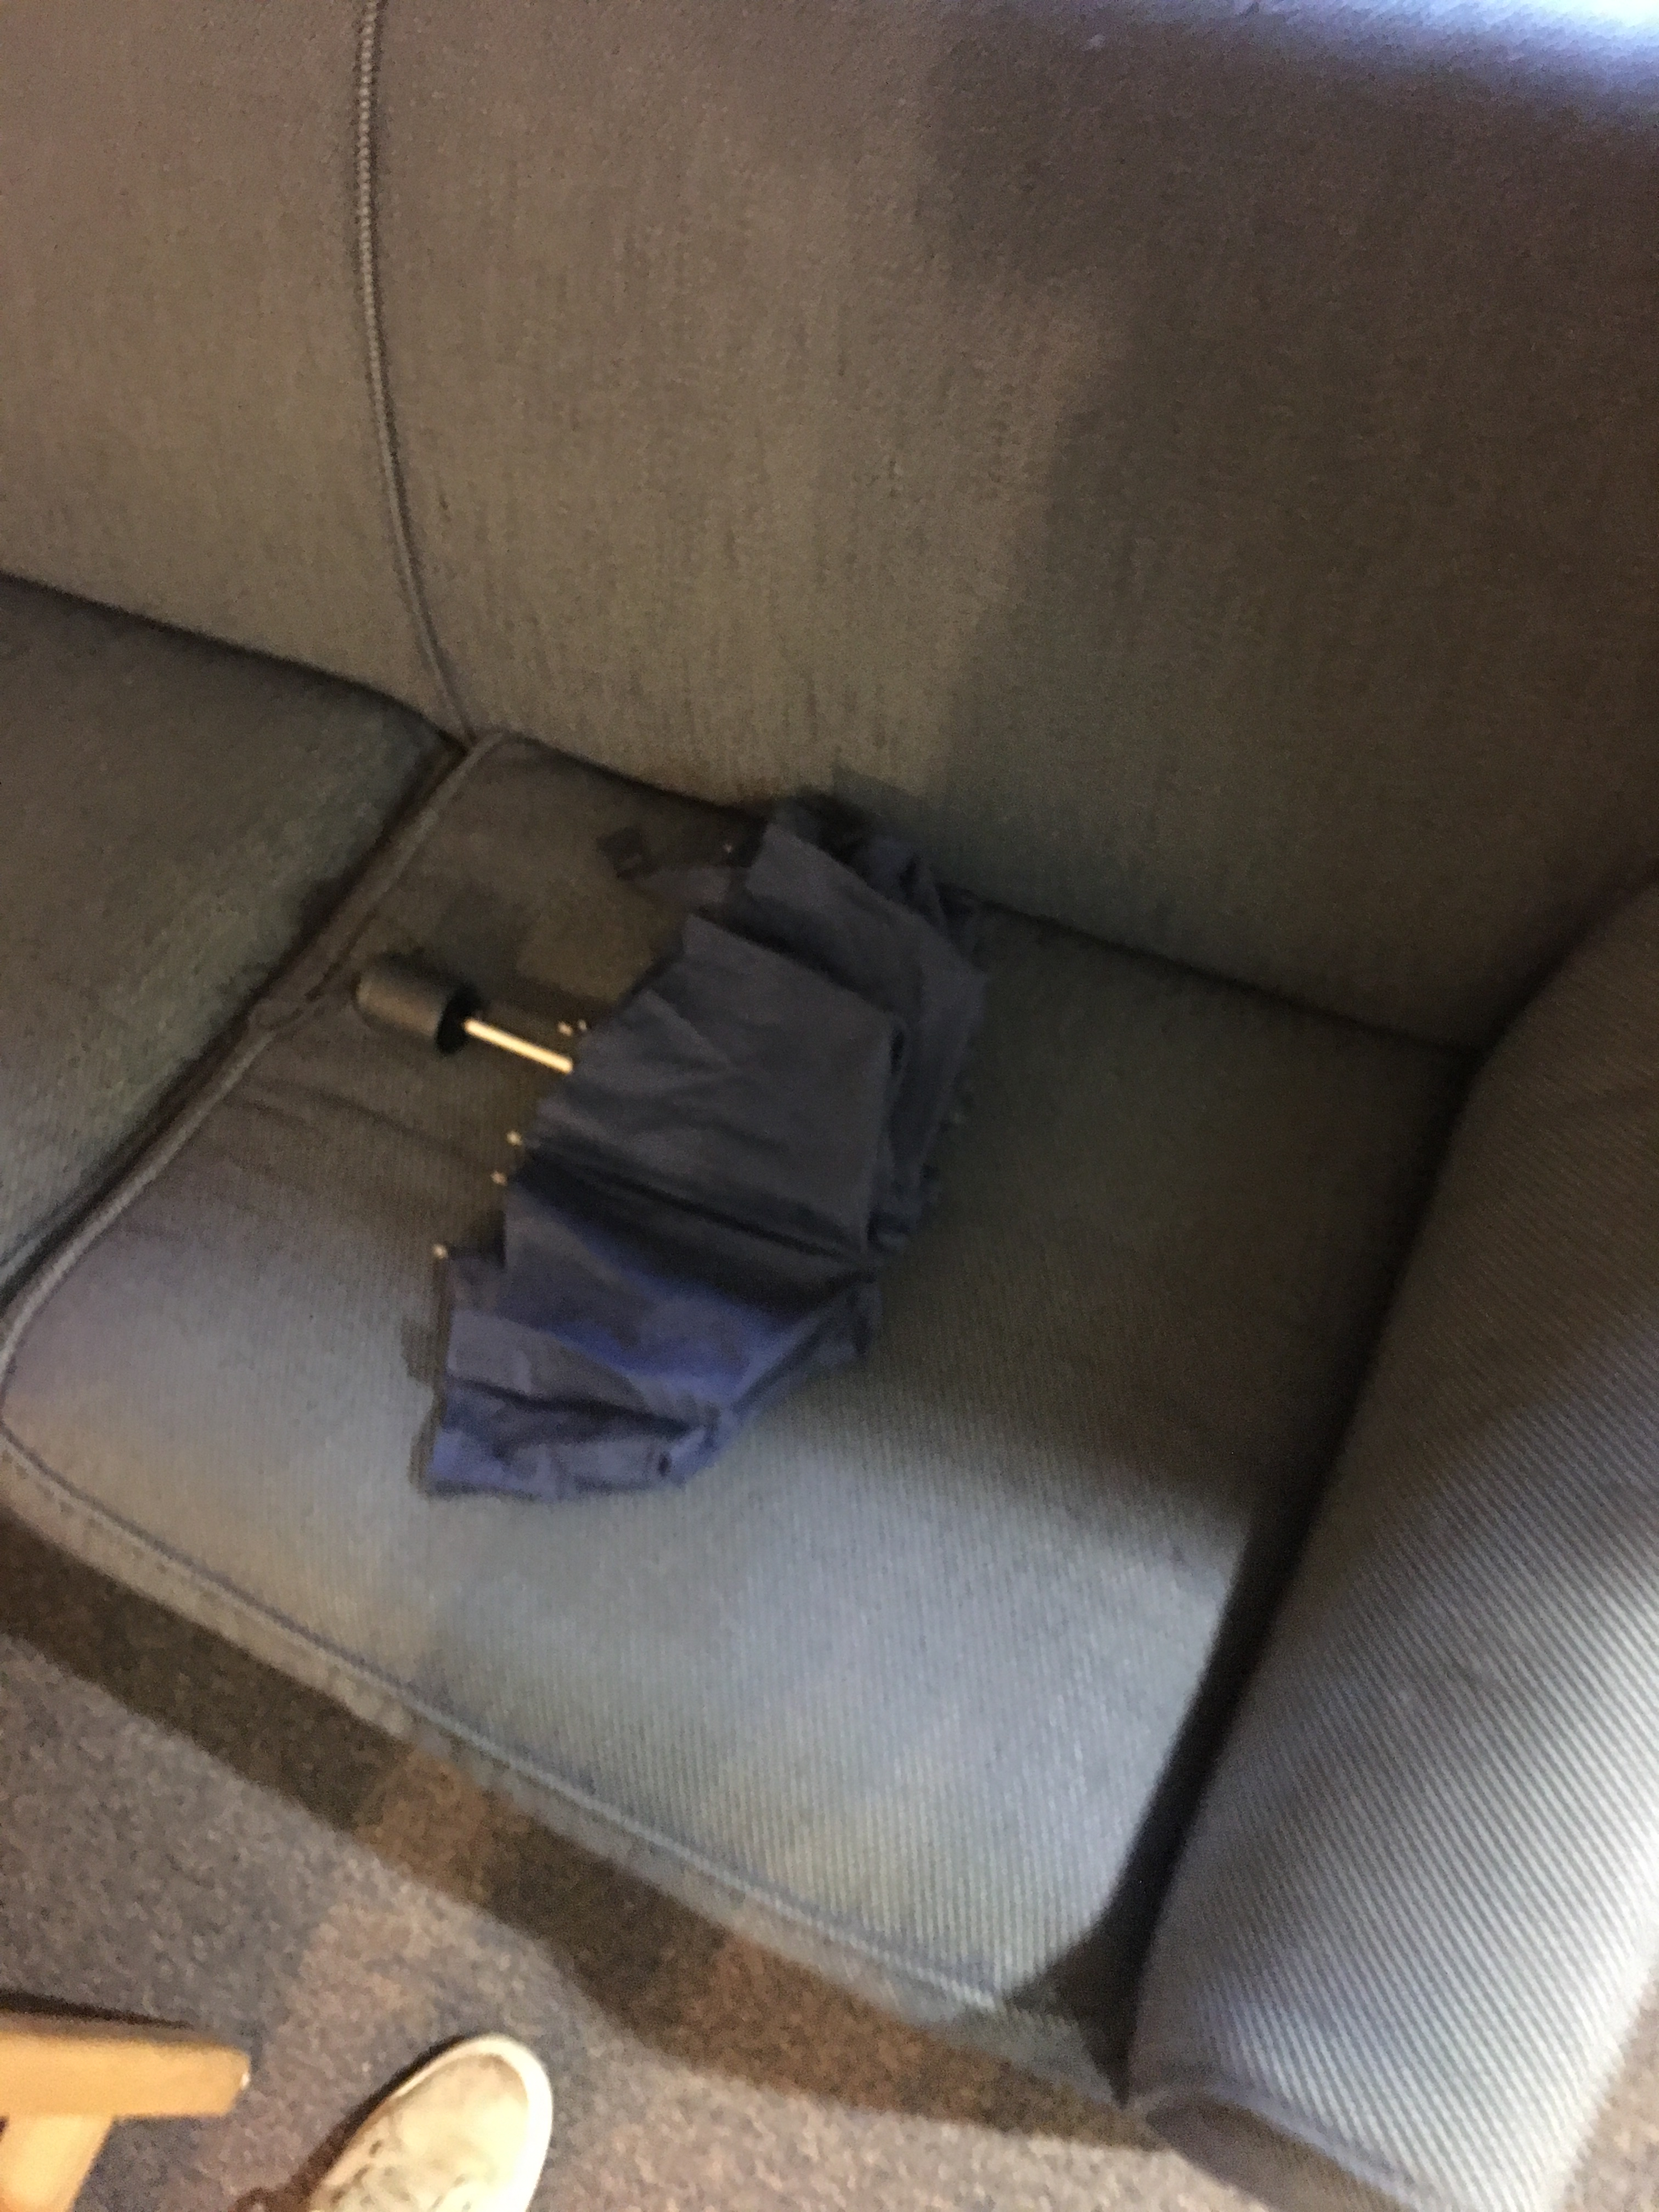Umbrella: (331, 773, 1009, 1508)
